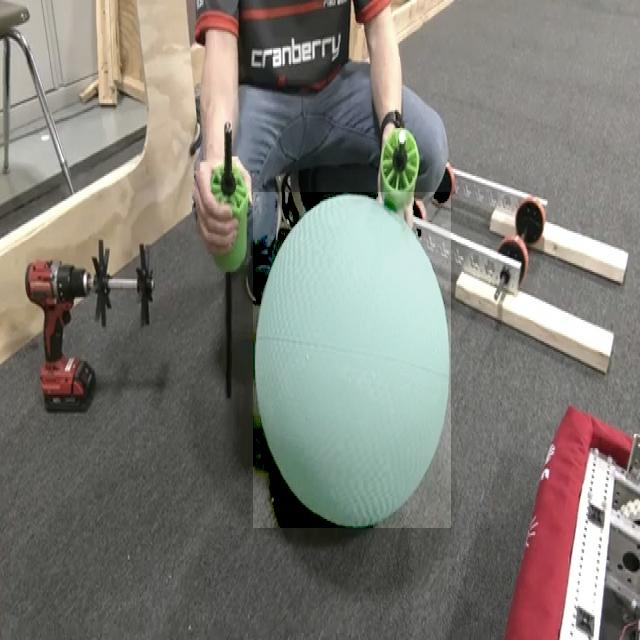Algae: (253, 192, 451, 528)
